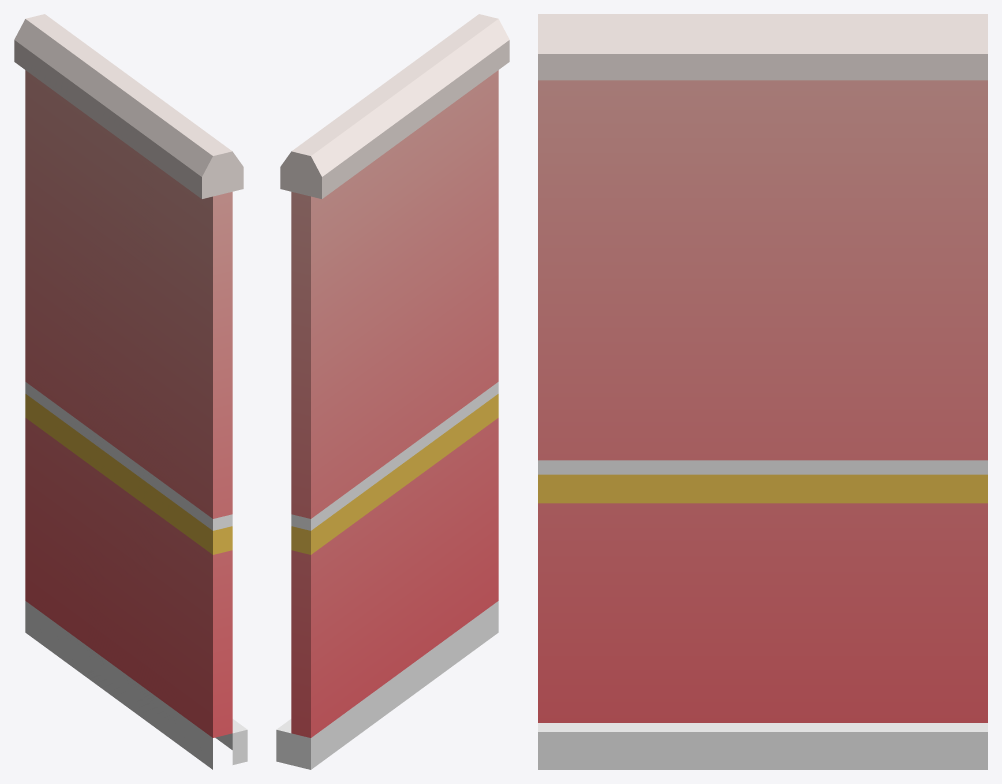
Rendered from 4Wall_Straight.fbx.
3 renders of one model, left to right at view 1: azimuth 30°, elevation 25°; view 2: azimuth 150°, elevation 25°; view 3: azimuth 270°, elevation 25°, orthographic. The views are drawn at different scales.
Parts seen in each view (by area): view 1: 4Wall_Straight; view 2: 4Wall_Straight; view 3: 4Wall_Straight.
Boxes of the visible parts, <box> form: 4Wall_Straight: <box>14,14,247,769</box>; 4Wall_Straight: <box>276,14,509,769</box>; 4Wall_Straight: <box>538,14,987,769</box>.
Bounding box in the file's own units: 28.14 × 360 × 200.
